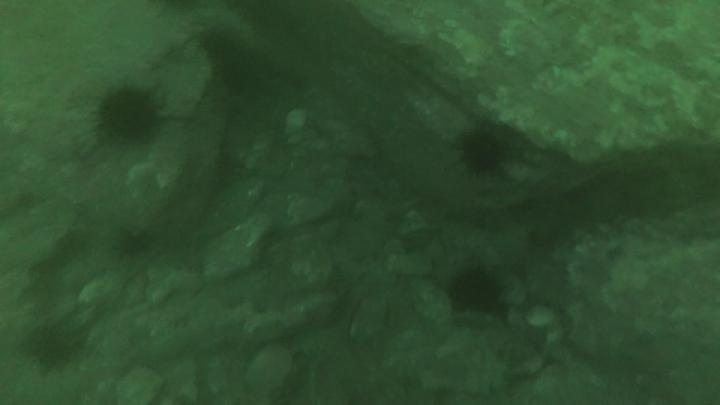echinus: (94, 83, 164, 145), (448, 266, 505, 316), (23, 322, 77, 371), (457, 128, 508, 177), (197, 25, 244, 63)
